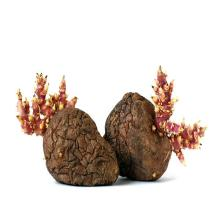Sprouted potato: (103, 62, 212, 186), (11, 68, 114, 190)
